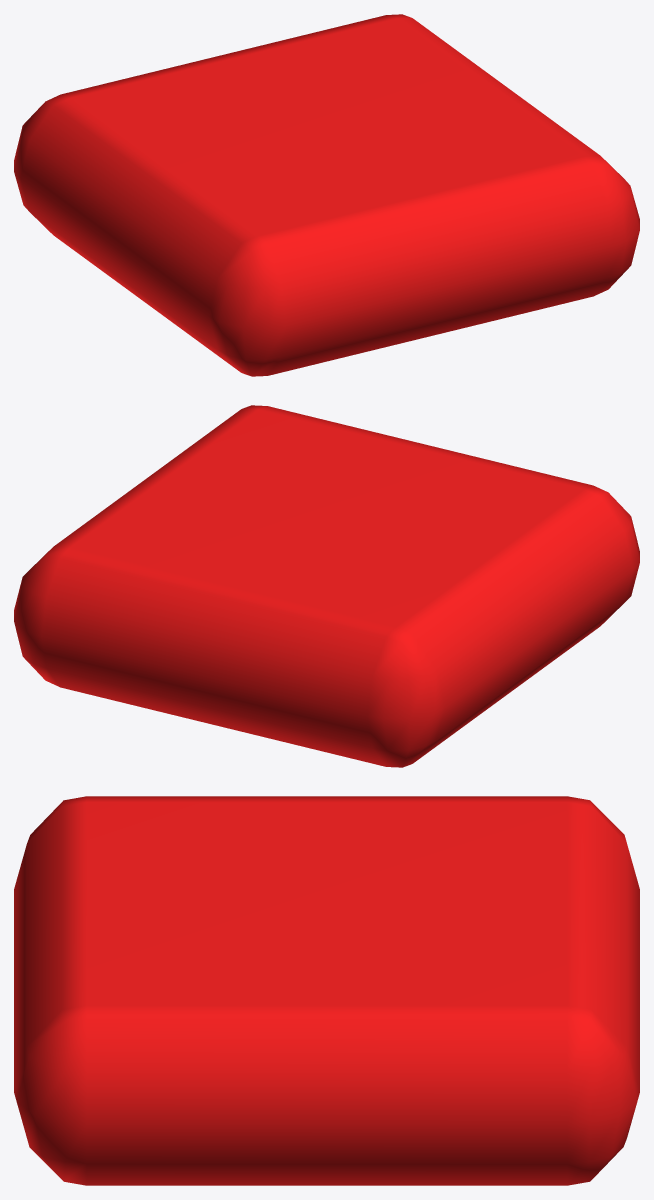
Rendered from SM_Jump_Pad_2m_01.fbx.
The picture shows the model from 3 angles, top to bottom: view 1: azimuth 30°, elevation 25°; view 2: azimuth 150°, elevation 25°; view 3: azimuth 270°, elevation 25°; orthographic projection. The views are drawn at different scales.
Visible parts, largest first — view 1: pCube479; view 2: pCube479; view 3: pCube479.
Part boxes in pixels (x1,y1,x2,y2): pCube479: [14, 14, 639, 376]; pCube479: [14, 405, 639, 767]; pCube479: [14, 796, 639, 1185].
Size of the model in its own units: 196 by 60 by 196.
Materials: 1 (1 with a texture image).
